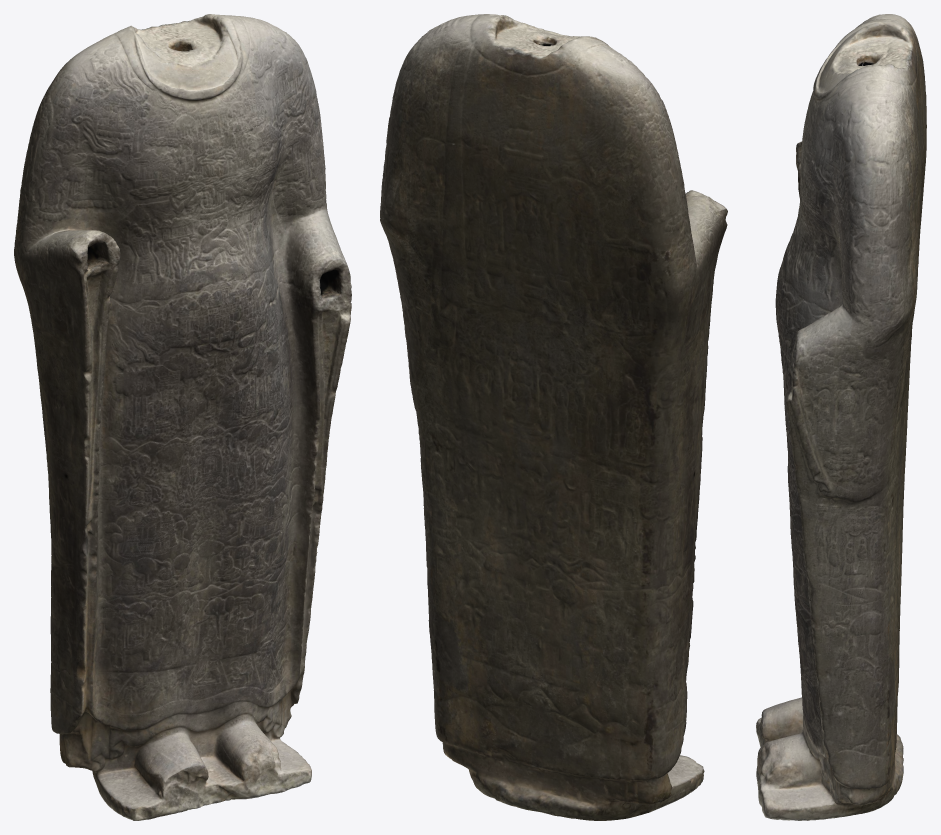
Rendered from cosmic-buddha.glb.
The picture shows the model from 3 angles, left to right: view 1: azimuth 30°, elevation 25°; view 2: azimuth 150°, elevation 25°; view 3: azimuth 270°, elevation 25°; orthographic projection. The views are drawn at different scales.
Size of the model in its own units: 0.6355 by 1.51 by 0.3172.
1 material, 1 textured.
